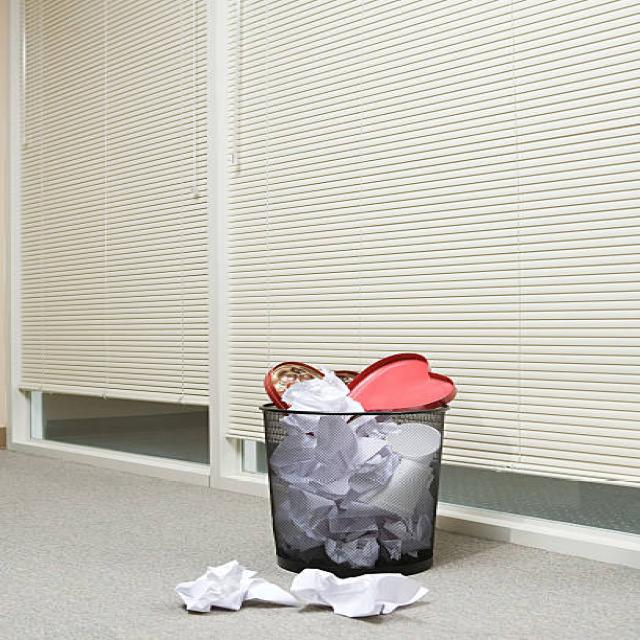paper: (286, 378, 376, 542), (188, 562, 414, 621)
plastic: (356, 374, 449, 424)
